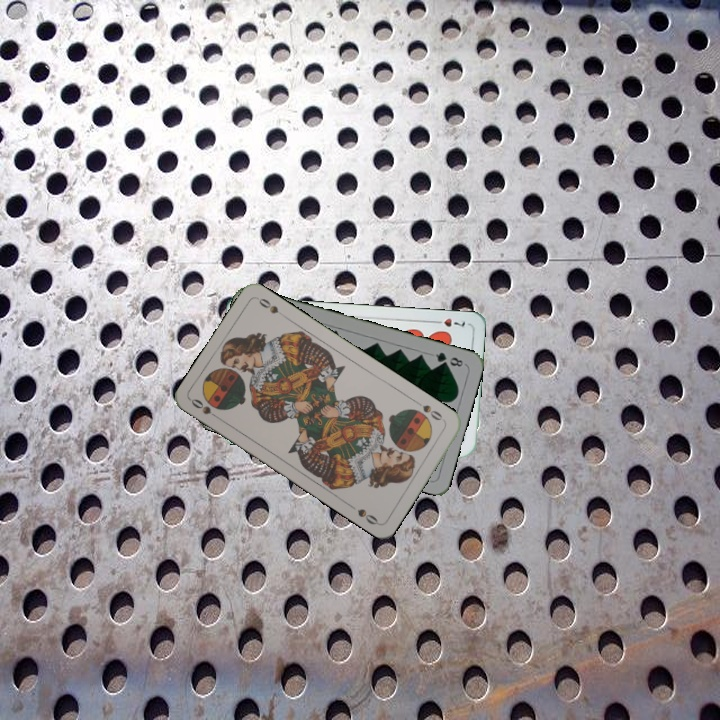G8: (431, 348, 466, 369)
H7: (429, 314, 468, 330)
SO: (187, 394, 224, 423), (412, 397, 448, 425)
